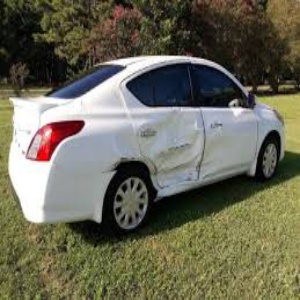door: (137, 115, 232, 188)
